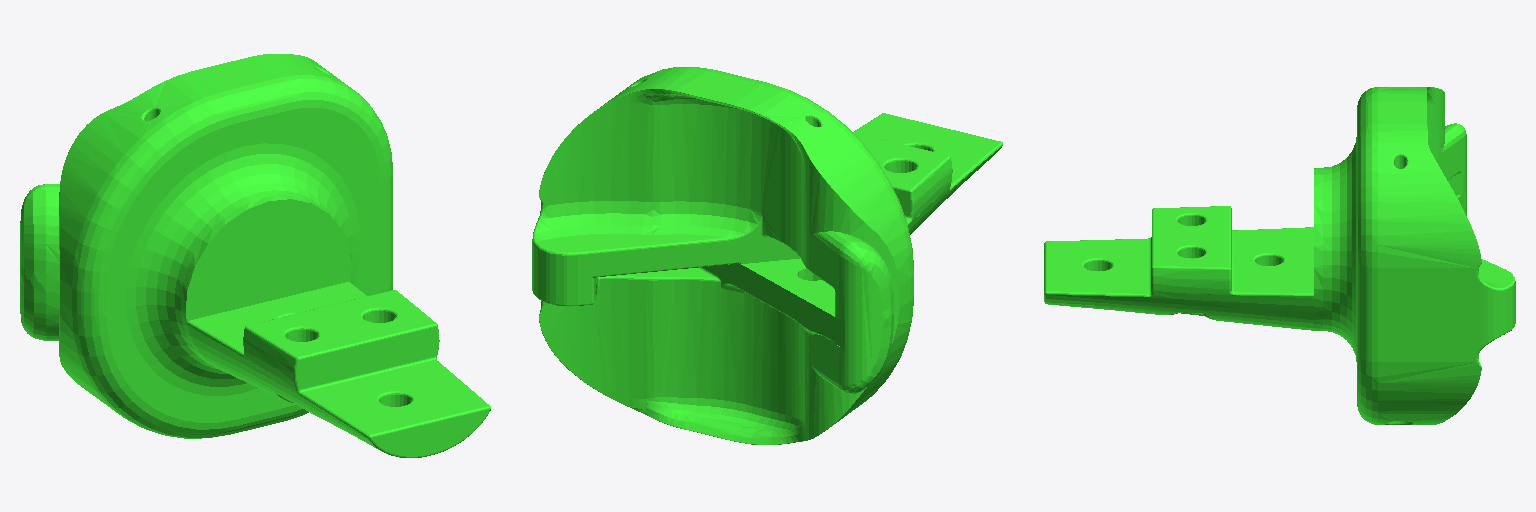
The robot description file, URDF, robot "09_BA_003.URDF":
<?xml version="1.0" encoding="utf-8"?>
<!-- This URDF was automatically created by SolidWorks to URDF Exporter! Originally created by Stephen Brawner (brawner@gmail.com) 
     Commit Version: 1.6.0-4-g7f85cfe  Build Version: 1.6.7995.38578
     For more information, please see http://wiki.ros.org/sw_urdf_exporter -->
<robot
  name="09_BA_003.URDF">
  <link
    name="base_link">
    <inertial>
      <origin
        xyz="0.001102 -0.057127 -0.0010271"
        rpy="0 0 0" />
      <mass
        value="0.10309" />
      <inertia
        ixx="6.8939E-05"
        ixy="-2.3689E-06"
        ixz="-4.4803E-07"
        iyy="6.3726E-05"
        iyz="-4.8692E-06"
        izz="7.976E-05" />
    </inertial>
    <visual>
      <origin
        xyz="0 0 0"
        rpy="0 0 0" />
      <geometry>
        <mesh
          filename="package://09_BA_003.URDF/meshes/base_link.STL" />
      </geometry>
      <material
        name="">
        <color
          rgba="0.31765 1 0.28627 1" />
      </material>
    </visual>
    <collision>
      <origin
        xyz="0 0 0"
        rpy="0 0 0" />
      <geometry>
        <mesh
          filename="package://09_BA_003.URDF/meshes/base_link.STL" />
      </geometry>
    </collision>
  </link>
</robot>

--- What the picture shows (computed from the rendered views, not written in the file) ---
3 views of the same robot in one strip: view 1: azimuth 30°, elevation 25°; view 2: azimuth 150°, elevation 25°; view 3: azimuth 270°, elevation 25° (orthographic).
Model 09_BA_003.URDF with 1 links and 0 joints (none), rooted at base_link, posed all joints at 0.
Visible links, largest first — view 1: base_link; view 2: base_link; view 3: base_link.
Link boxes in pixels (x1=…): base_link: x1=20, y1=54, x2=490, y2=457; base_link: x1=532, y1=67, x2=1002, y2=444; base_link: x1=1044, y1=87, x2=1515, y2=424.
Size in the robot's own frame: 0.0761 by 0.1099 by 0.075 metres.
Meshes: 1 distinct files referenced, 1 mesh visuals loaded (1 binary STL).
